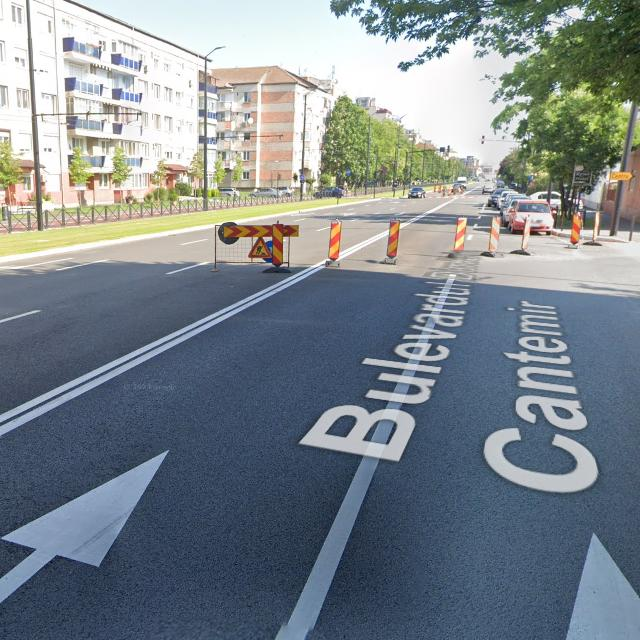warn_construction: (248, 238, 272, 258)
